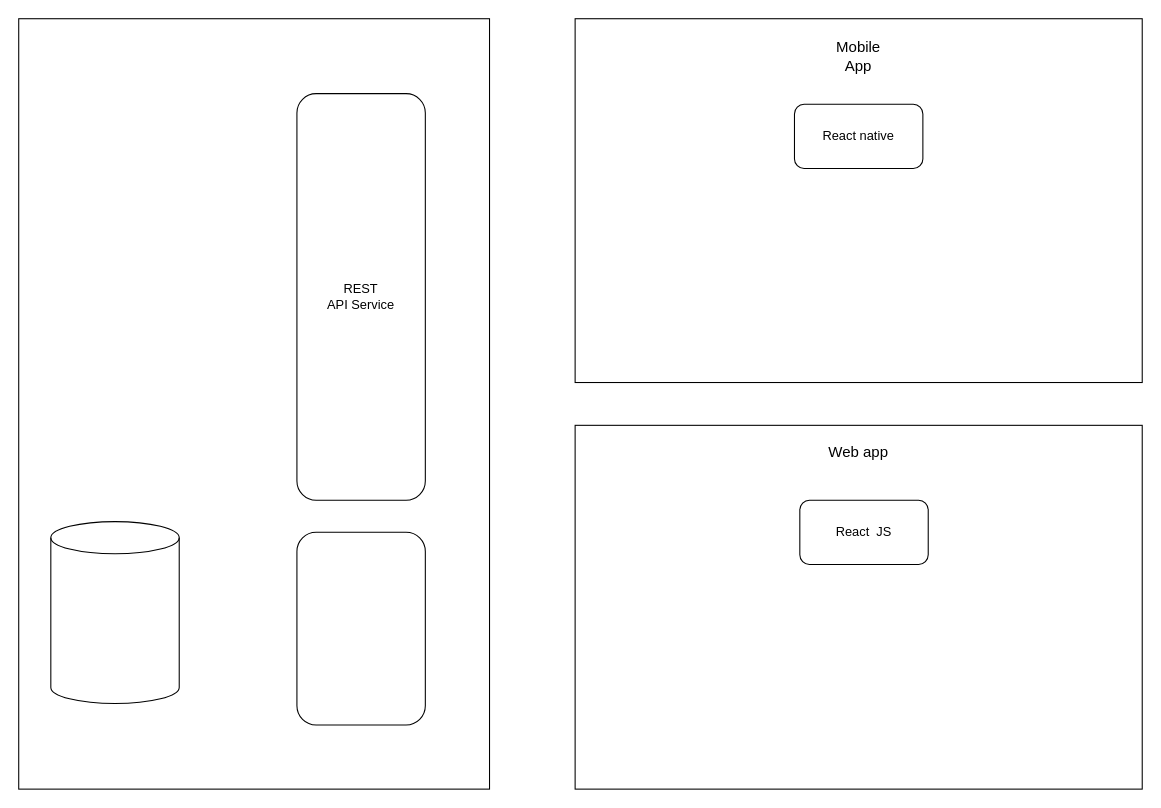
This 1161x808 diagram has some shape labels left out. Here are the shapes that lost their labels. From the top down, the centre of each, then its label:
At (x=114, y=612): "OpenG2P Odoo Postgre DB".
At (x=360, y=628): "Web socket real time messaging".
